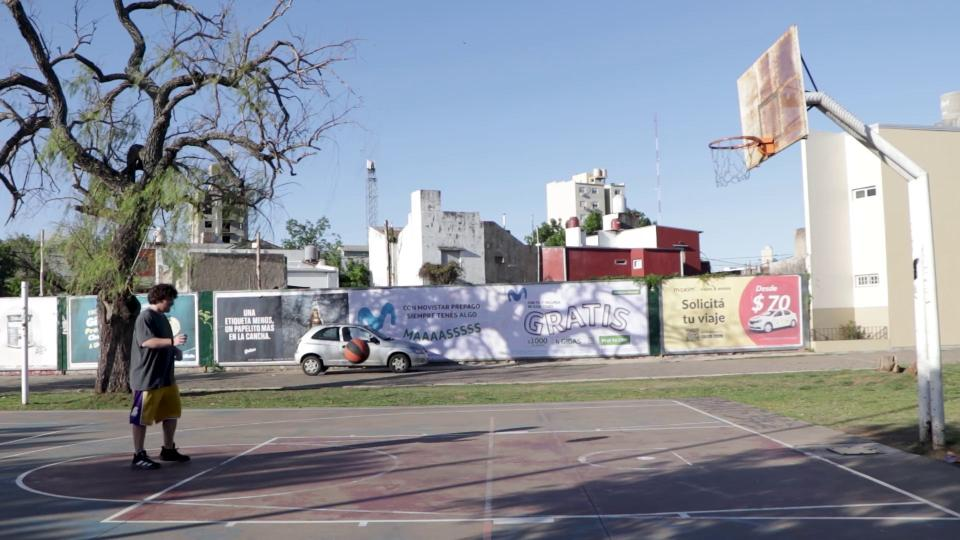hoop: (708, 135, 763, 152)
